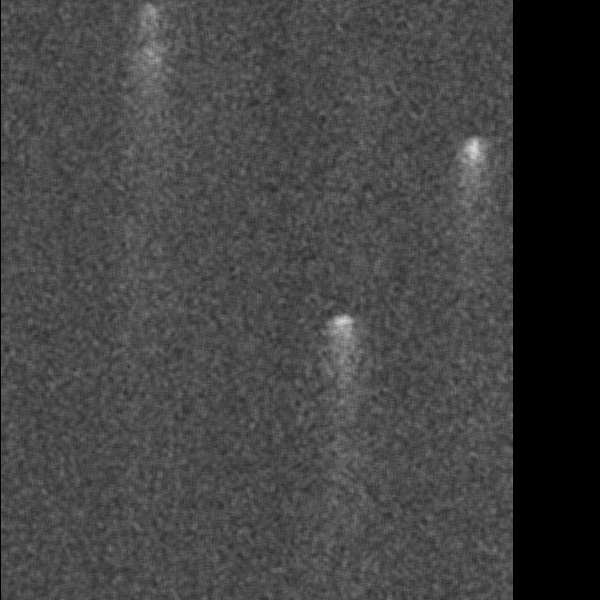spark: (136, 7, 165, 141), (455, 136, 488, 217), (326, 312, 361, 361)
